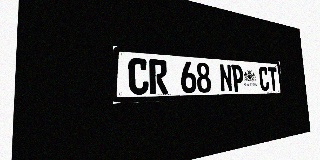6: (180, 61, 197, 93)
8: (196, 62, 211, 93)
C: (128, 58, 149, 95), (258, 66, 270, 91)
N: (219, 64, 233, 92)
P: (231, 64, 244, 92)
R: (149, 59, 168, 94)
T: (268, 67, 278, 91)
